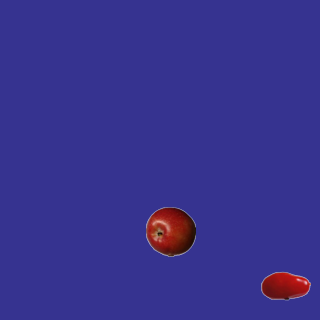Apple Braeburn: (145, 206, 195, 256)
Tomato 2: (260, 260, 310, 310)
